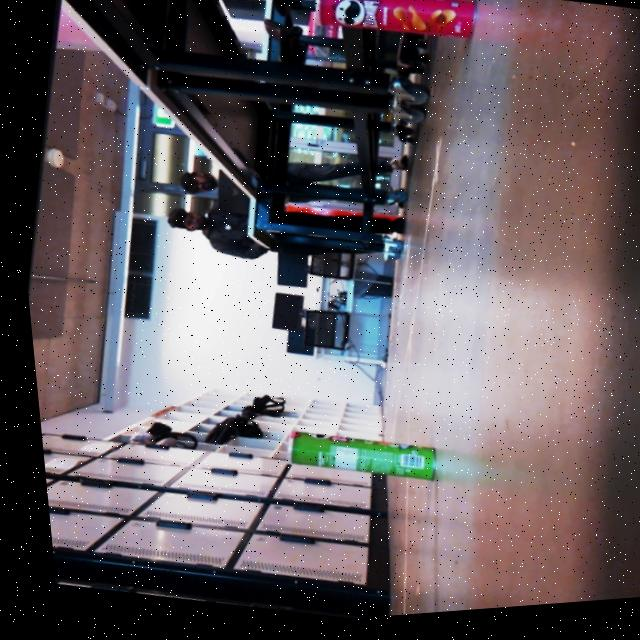greenpringles: (241, 408, 457, 523)
redpringles: (299, 0, 503, 76)
